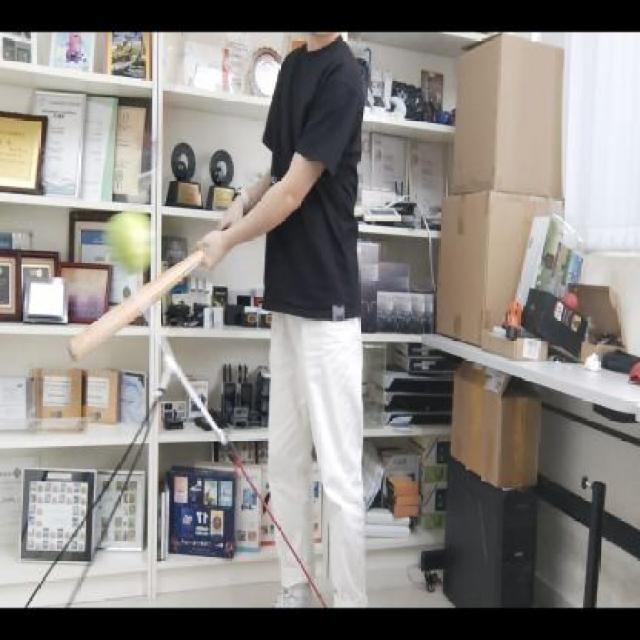baseball: (109, 209, 154, 274)
